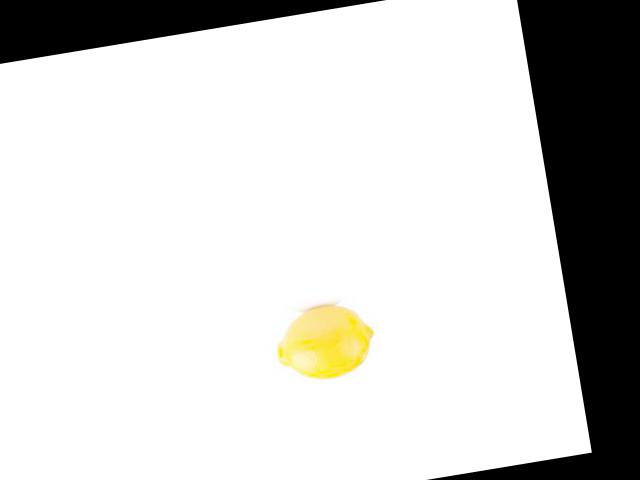lemon: (263, 300, 385, 391)
